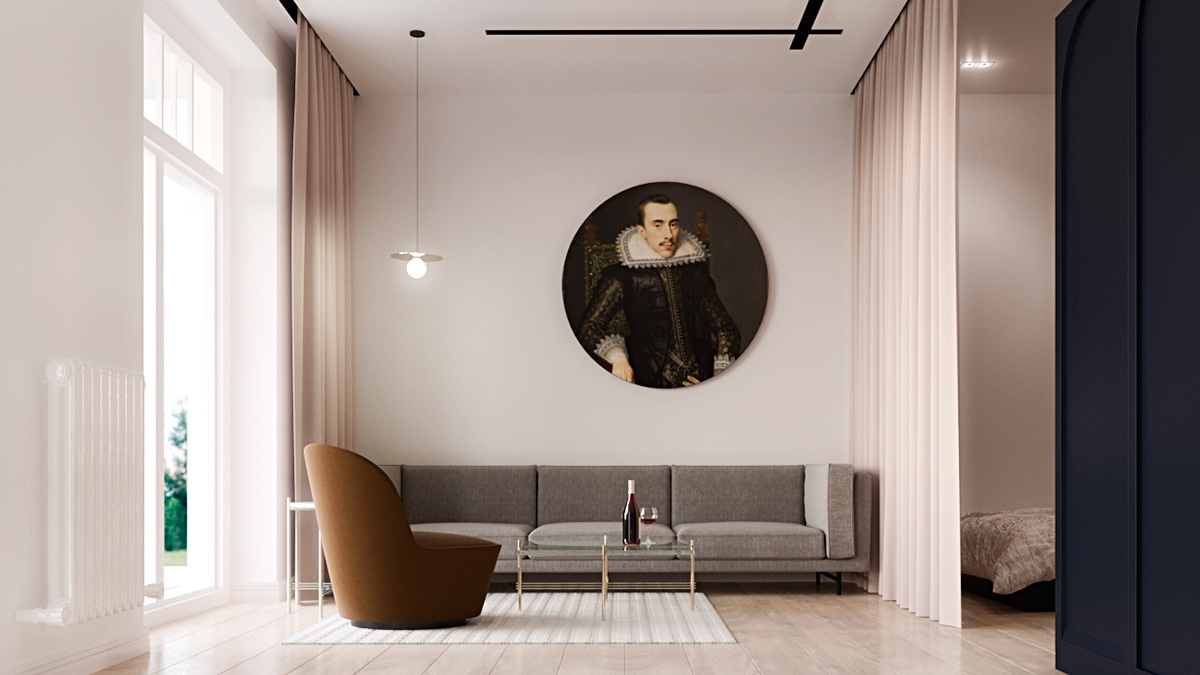chair: (302, 440, 504, 634)
sofa: (361, 459, 879, 596)
table: (507, 527, 700, 625)
wall art: (559, 175, 770, 393)
